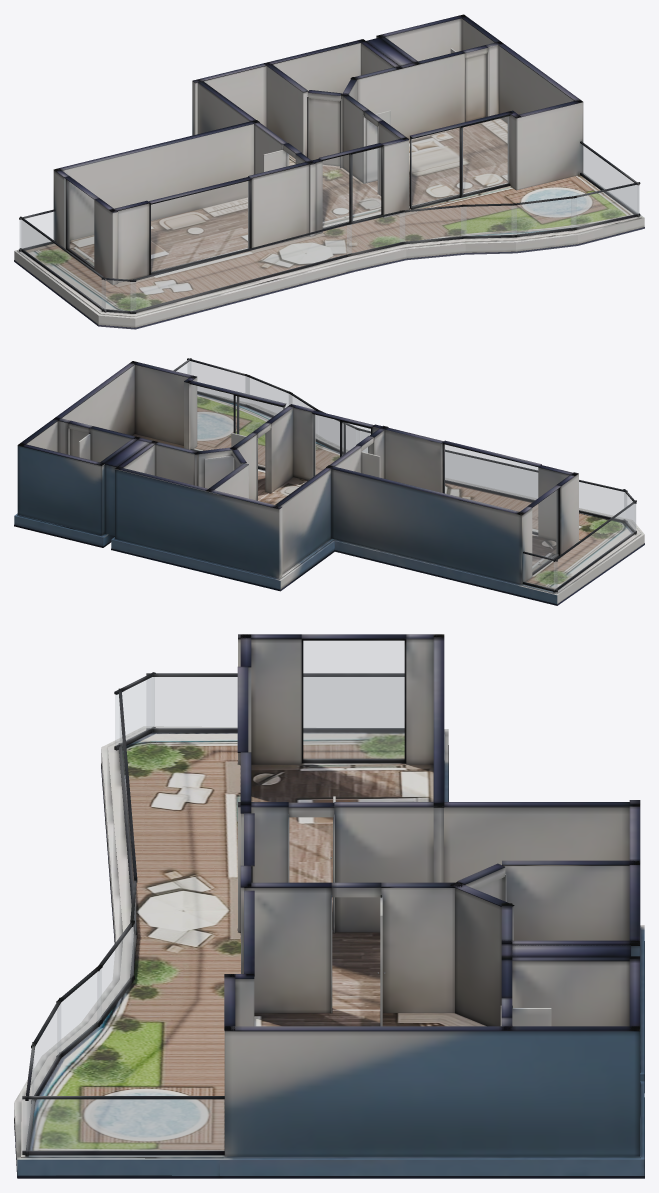
The picture shows the model from 3 angles, top to bottom: view 1: azimuth 30°, elevation 25°; view 2: azimuth 150°, elevation 25°; view 3: azimuth 270°, elevation 25°; orthographic projection. The views are drawn at different scales.
Visible parts, largest first — view 1: plan, glass1_m, railg8_m, glass3_m, glass2_m, railg2_m, railg3_m, railg6_m, railg4_m, glass0_m, railg7_m, railg5_m (+3 smaller); view 2: plan, glass1_m, glass3_m, railg8_m, railg2_m, glass2_m, glass0_m, railg3_m, railg0_m, railg4_m, railg6_m; view 3: plan, glass0_m, railg1_m, railg2_m, railg5_m, railg9_m, railg6_m, railg4_m.
Boxes of the visible parts, x1,y1,x2,y2 form: plan: (14,14,644,329); glass1_m: (151,181,249,272); railg8_m: (130,224,351,311); glass3_m: (411,116,508,207); glass2_m: (323,148,380,228); railg2_m: (21,220,105,309); railg3_m: (571,185,639,228); railg6_m: (400,207,466,241); railg4_m: (511,198,576,234); glass0_m: (67,180,93,266); railg7_m: (347,212,404,254); railg5_m: (461,205,516,236); plan: (14,358,644,605); glass1_m: (444,444,537,532); glass3_m: (190,384,282,467); railg8_m: (445,452,626,519); railg2_m: (554,504,635,590); glass2_m: (313,414,370,476); glass0_m: (532,490,557,571); railg3_m: (188,361,249,403); railg0_m: (523,554,557,589); railg4_m: (245,376,291,415); railg6_m: (319,416,359,451); plan: (14,634,644,1178); glass0_m: (303,641,404,759); railg1_m: (22,1099,224,1150); railg2_m: (147,677,403,728); railg5_m: (58,969,101,1054); railg9_m: (115,677,154,746); railg6_m: (97,925,133,1022); railg4_m: (33,1004,60,1095).
Bounding box in the file's own units: 16.71 × 2.62 × 10.27.
Materials: 2 (1 with a texture image).
